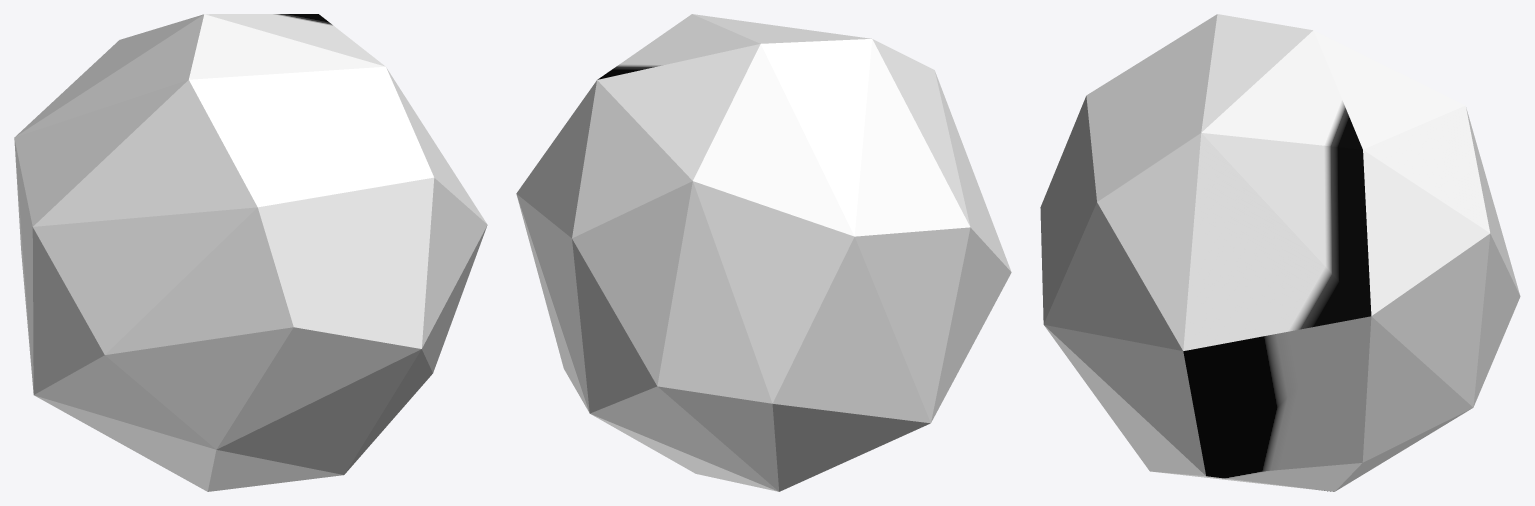
File: snow.obj
The picture shows the model from 3 angles, left to right: view 1: azimuth 30°, elevation 25°; view 2: azimuth 150°, elevation 25°; view 3: azimuth 270°, elevation 25°; orthographic projection.
Visible parts, largest first — view 1: Sphere.003; view 2: Sphere.003; view 3: Sphere.003.
Part boxes in pixels (box(x1,y1,x2,y2)): Sphere.003: box(14, 14, 487, 491); Sphere.003: box(516, 14, 1011, 491); Sphere.003: box(1040, 14, 1520, 491).
Bounding box in the file's own units: 0.00784 × 0.00801 × 0.00801.
1 material, 1 textured.
